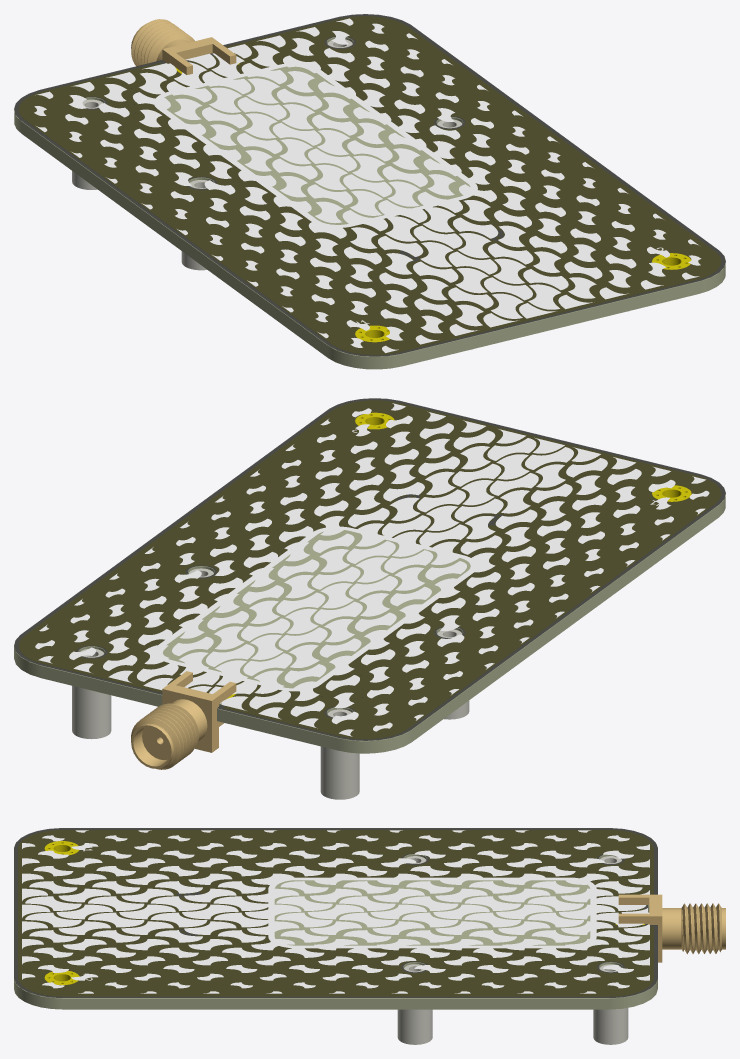
Rendered from Helgatchi back PCB.glb.
3 views of the same model, one above another, from view 1: azimuth 30°, elevation 25°; view 2: azimuth 150°, elevation 25°; view 3: azimuth 270°, elevation 25° (orthographic). The views are drawn at different scales.
Parts seen in each view (by area): view 1: =>[0:1:1:6], =>[0:1:1:4], =>[0:1:1:5], =>[0:1:1:7], J2; view 2: =>[0:1:1:6], =>[0:1:1:4], =>[0:1:1:5], =>[0:1:1:7], J2, H4, H3; view 3: =>[0:1:1:6], =>[0:1:1:5], =>[0:1:1:4], =>[0:1:1:7], J2, H5, H3.
Part boxes in pixels (left/top/right/bottom): =>[0:1:1:6]: left=14, top=14, right=725, bottom=356; =>[0:1:1:4]: left=19, top=16, right=720, bottom=354; =>[0:1:1:5]: left=34, top=18, right=701, bottom=352; =>[0:1:1:7]: left=14, top=15, right=725, bottom=369; J2: left=131, top=19, right=236, bottom=74; =>[0:1:1:6]: left=14, top=398, right=725, bottom=740; =>[0:1:1:4]: left=19, top=401, right=720, bottom=738; =>[0:1:1:5]: left=35, top=403, right=709, bottom=736; =>[0:1:1:7]: left=14, top=399, right=725, bottom=753; J2: left=131, top=671, right=236, bottom=769; H4: left=320, top=709, right=359, bottom=799; H3: left=72, top=649, right=111, bottom=739; =>[0:1:1:6]: left=14, top=828, right=657, bottom=997; =>[0:1:1:5]: left=22, top=830, right=649, bottom=993; =>[0:1:1:4]: left=18, top=830, right=653, bottom=995; =>[0:1:1:7]: left=14, top=829, right=657, bottom=1009; J2: left=618, top=894, right=725, bottom=962; H5: left=397, top=964, right=432, bottom=1044; H3: left=593, top=964, right=628, bottom=1044.
Bounding box in the file's own units: 0.05 × 0.0107 × 0.0885.
